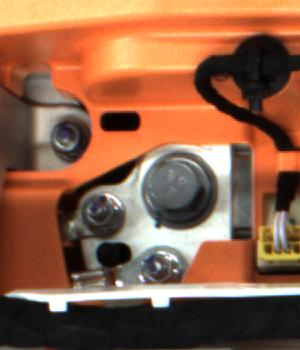nut_b: (129, 150, 228, 232)
screw_s: (79, 192, 120, 233), (138, 249, 176, 285), (46, 122, 83, 158)
